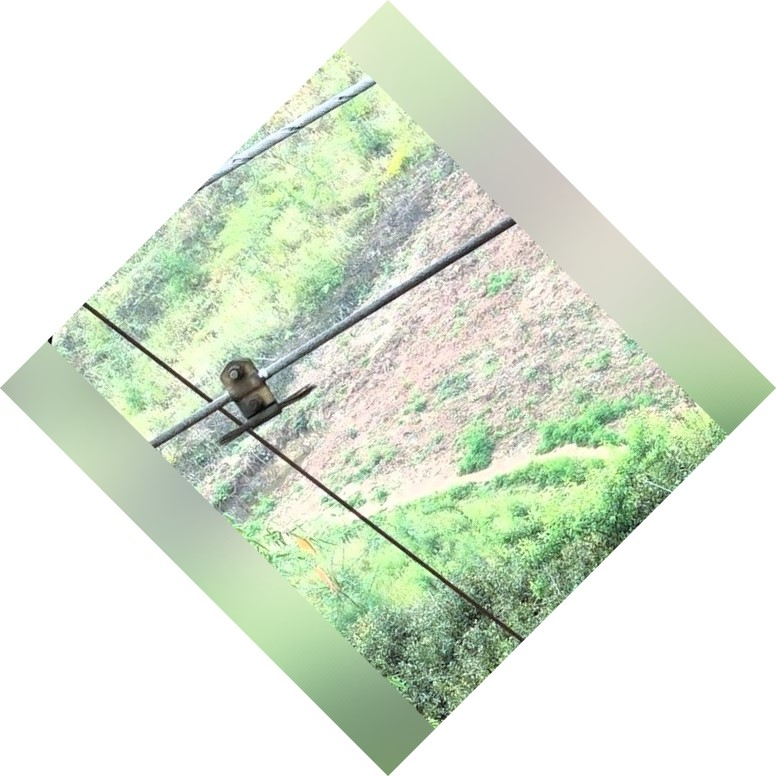Damage of shockproof hammer: (206, 350, 323, 450)
